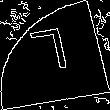L_S: (32, 27, 78, 83)
